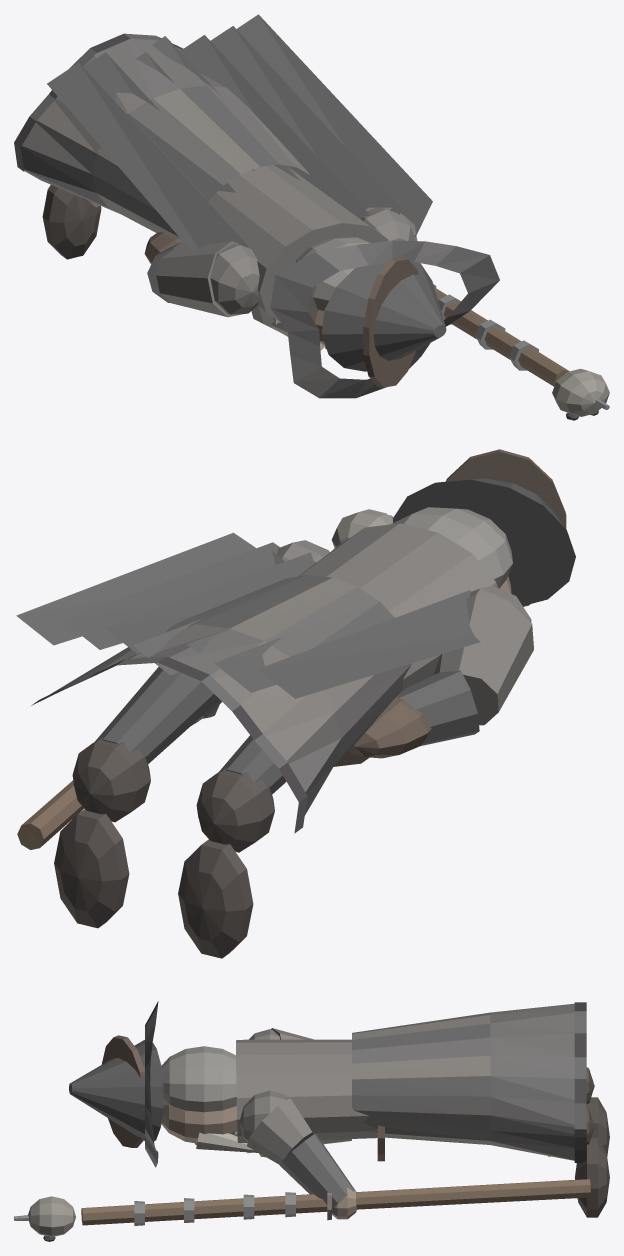
File: wizard-necromancer-neutral.glb
The picture shows the model from 3 angles, top to bottom: view 1: azimuth 30°, elevation 25°; view 2: azimuth 150°, elevation 25°; view 3: azimuth 270°, elevation 25°; orthographic projection. The views are drawn at different scales.
Parts seen in each view (by area): view 1: cape, robe, hat-brim, torso, hat-crown, shoulder, upper-arm, boot, hat-band, staff, necro-bone, hem (+3 smaller); view 2: cape, robe, boot, torso, hat-crown, leg, upper-arm, forearm, rear-hair, hat-band, hem, pouch (+3 smaller); view 3: robe, torso, staff, hat-crown, rear-hair, boot, forearm, upper-arm, hem, face, necro-bone, shoulder (+5 smaller).
Boxes of the visible parts, bbox=[...] form: cape: bbox=[47, 14, 432, 251]; robe: bbox=[21, 38, 309, 237]; hat-brim: bbox=[270, 240, 499, 398]; torso: bbox=[208, 165, 388, 321]; hat-crown: bbox=[321, 262, 446, 371]; shoulder: bbox=[210, 207, 415, 314]; upper-arm: bbox=[156, 207, 417, 317]; boot: bbox=[42, 185, 101, 259]; hat-band: bbox=[363, 257, 418, 387]; staff: bbox=[434, 287, 569, 386]; necro-bone: bbox=[552, 368, 609, 416]; hem: bbox=[14, 33, 183, 171]; cape: bbox=[16, 532, 480, 698]; robe: bbox=[51, 575, 411, 815]; boot: bbox=[54, 737, 274, 958]; torso: bbox=[299, 523, 497, 694]; hat-crown: bbox=[393, 478, 575, 605]; leg: bbox=[94, 667, 375, 794]; upper-arm: bbox=[272, 551, 533, 725]; forearm: bbox=[202, 670, 479, 745]; rear-hair: bbox=[391, 507, 512, 588]; hat-band: bbox=[446, 449, 566, 606]; hem: bbox=[31, 656, 307, 833]; pouch: bbox=[349, 695, 431, 758]; robe: bbox=[352, 1003, 574, 1160]; torso: bbox=[236, 1039, 377, 1142]; staff: bbox=[81, 1179, 590, 1225]; hat-crown: bbox=[69, 1040, 163, 1141]; rear-hair: bbox=[161, 1046, 236, 1112]; boot: bbox=[548, 1067, 609, 1217]; forearm: bbox=[279, 1134, 354, 1208]; upper-arm: bbox=[247, 1028, 313, 1165]; hem: bbox=[574, 1002, 586, 1162]; face: bbox=[161, 1100, 237, 1143]; necro-bone: bbox=[28, 1196, 75, 1236]; shoulder: bbox=[239, 1029, 288, 1147].
Size of the model in its own units: 1.22 by 0.8595 by 2.54.
